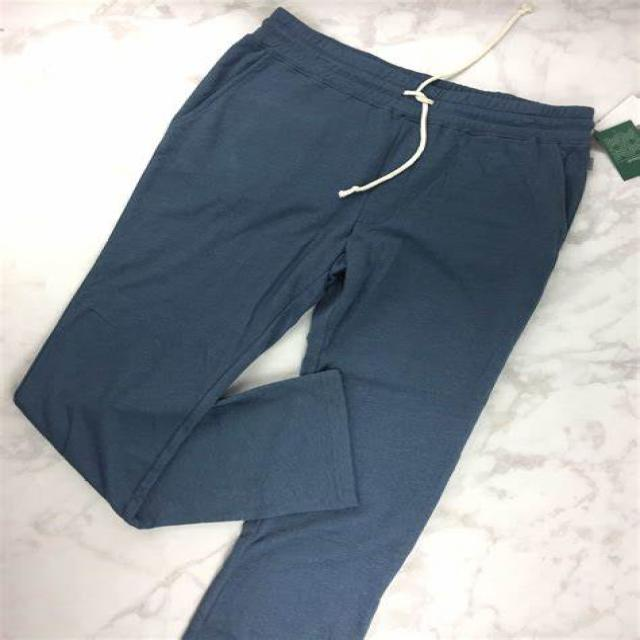long-pants: (4, 1, 596, 640)
